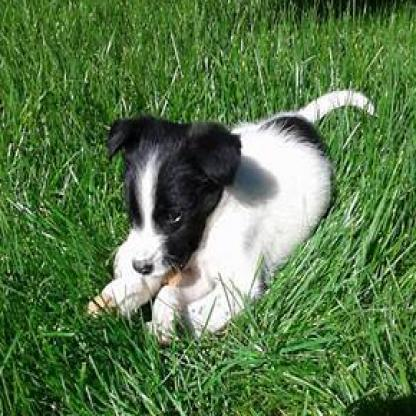dog: (85, 91, 377, 345)
